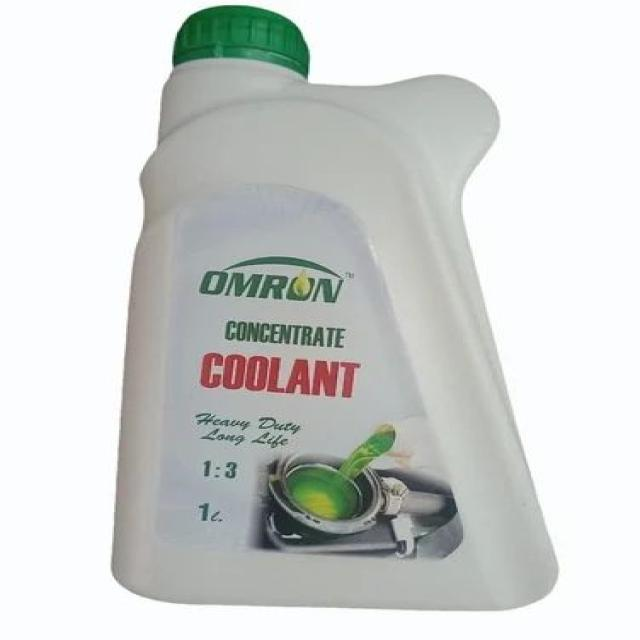coolant: (111, 1, 573, 617)
